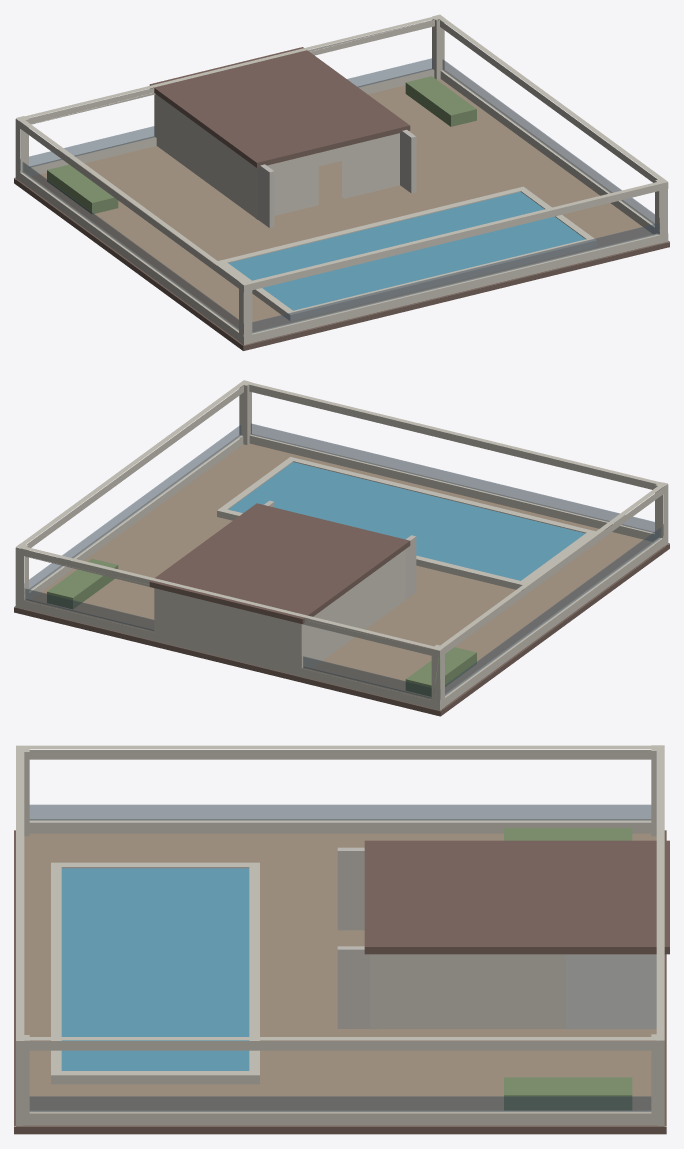
The model's file is brick-roof-b.shaft-v1.lod0.glb.
3 renders of one model, top to bottom at view 1: azimuth 30°, elevation 25°; view 2: azimuth 150°, elevation 25°; view 3: azimuth 270°, elevation 25°, orthographic. The views are drawn at different scales.
Visible parts, largest first — view 1: brick-roof-b; view 2: brick-roof-b; view 3: brick-roof-b.
Part boxes in pixels (box(x1,y1,x2,y2)): brick-roof-b: box(14, 14, 669, 350); brick-roof-b: box(14, 380, 669, 716); brick-roof-b: box(14, 745, 669, 1134).
Bounding box in the file's own units: 26.16 × 3.86 × 24.48.
